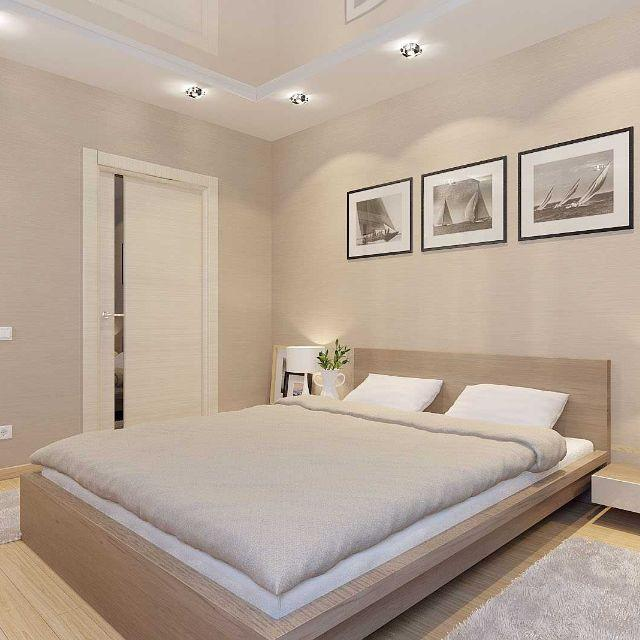bed: (12, 441, 604, 631)
door: (85, 149, 219, 423)
pillow: (447, 380, 576, 442), (340, 371, 455, 422)
